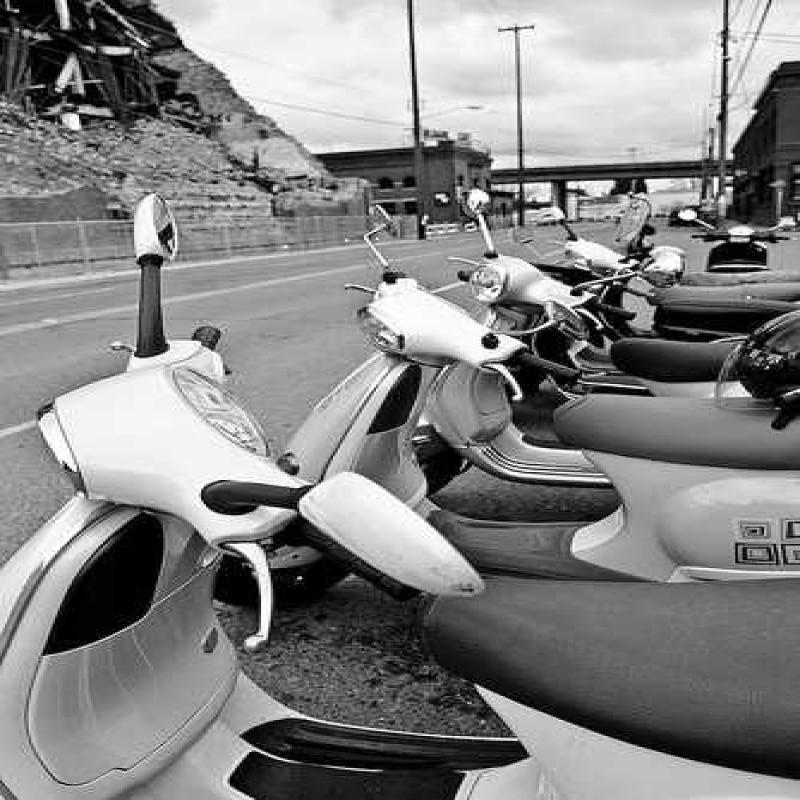bike: (0, 279, 800, 800), (322, 213, 800, 585), (466, 207, 800, 476)
